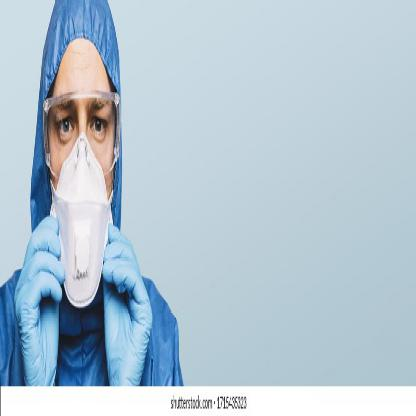with_gloves: (16, 217, 66, 388), (103, 228, 154, 387)
